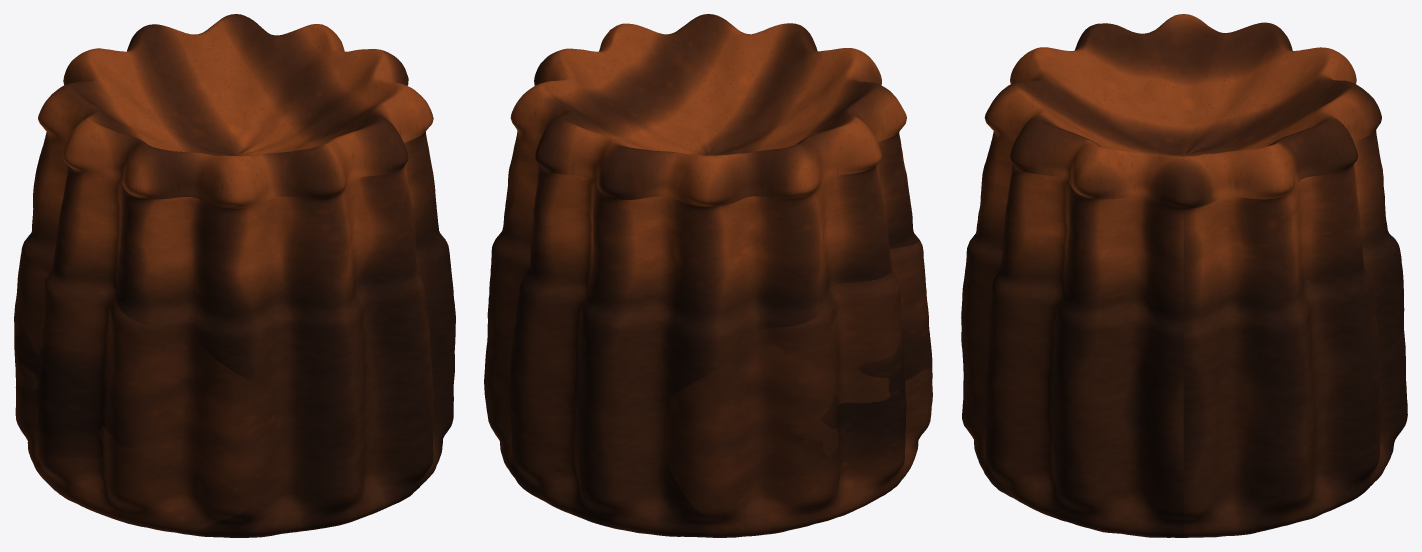
File: canele.glb
3 renders of one model, left to right at view 1: azimuth 30°, elevation 25°; view 2: azimuth 150°, elevation 25°; view 3: azimuth 270°, elevation 25°, orthographic.
Parts seen in each view (by area): view 1: Canele_de_Bordeaux; view 2: Canele_de_Bordeaux; view 3: Canele_de_Bordeaux.
Boxes of the visible parts, <box> form: Canele_de_Bordeaux: <box>14,14,455,537</box>; Canele_de_Bordeaux: <box>484,14,932,537</box>; Canele_de_Bordeaux: <box>961,14,1407,537</box>.
Bounding box in the file's own units: 0.0508 × 0.0471 × 0.0507.
Materials: 1 (1 with a texture image).
